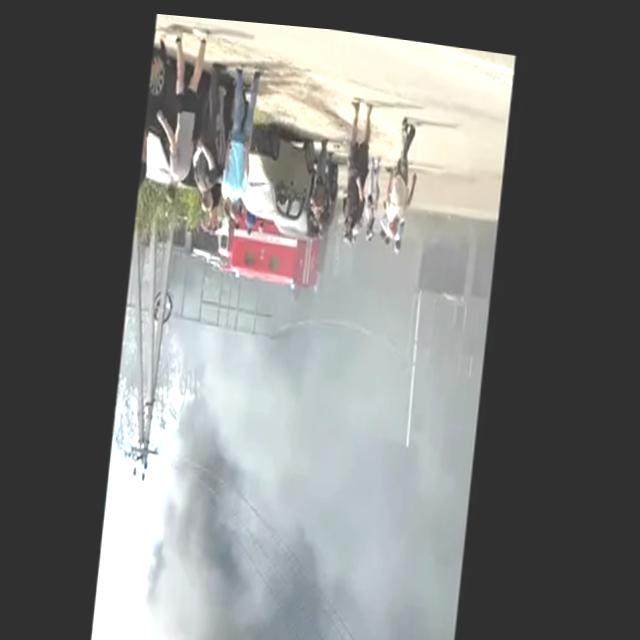no_helmet: (145, 216, 495, 640)
